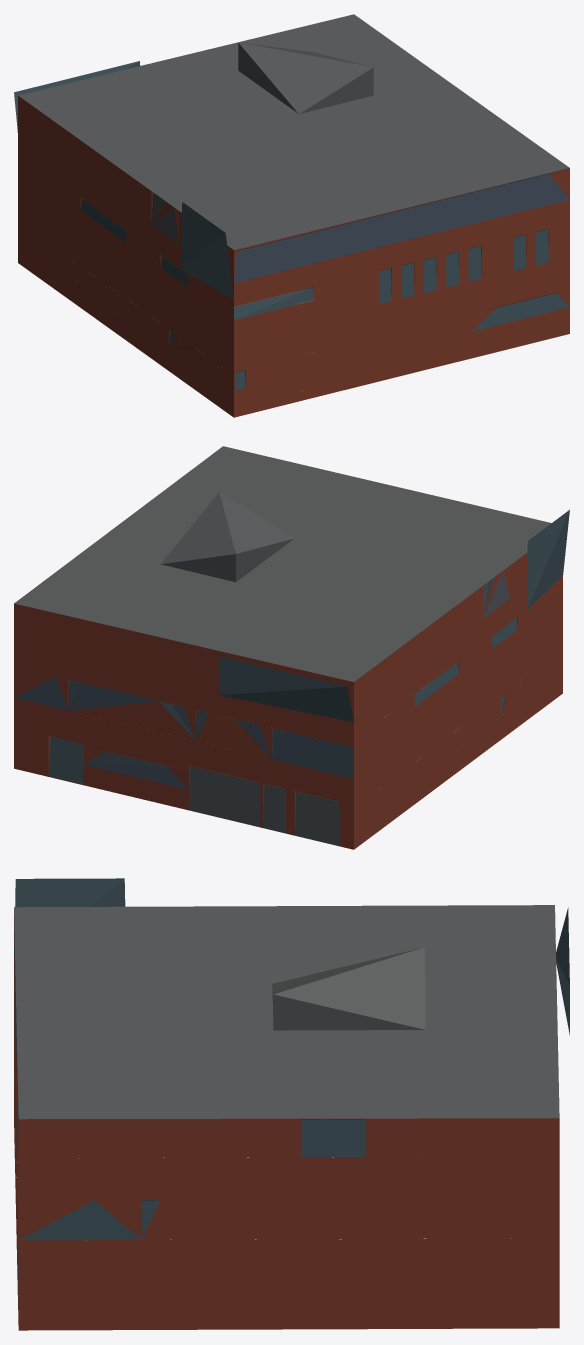
File: politiebureau-postjesweg.lod2.glb
3 views of the same model, one above another, from view 1: azimuth 30°, elevation 25°; view 2: azimuth 150°, elevation 25°; view 3: azimuth 270°, elevation 25° (orthographic). The views are drawn at different scales.
Parts seen in each view (by area): view 1: lod2; view 2: lod2; view 3: lod2.
Part boxes in pixels (x1=…): lod2: x1=14, y1=14, x2=569, y2=417; lod2: x1=14, y1=446, x2=569, y2=849; lod2: x1=14, y1=878, x2=569, y2=1330.
Bounding box in the file's own units: 23.05 × 13.8 × 25.18.
